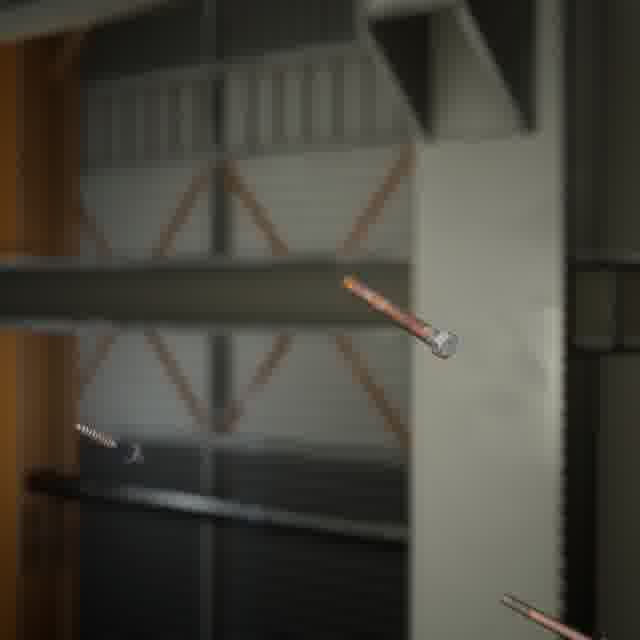bolt: (337, 271, 462, 363), (495, 588, 611, 640), (69, 418, 149, 470)
